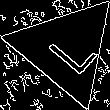L_NW: (36, 21, 96, 77)
